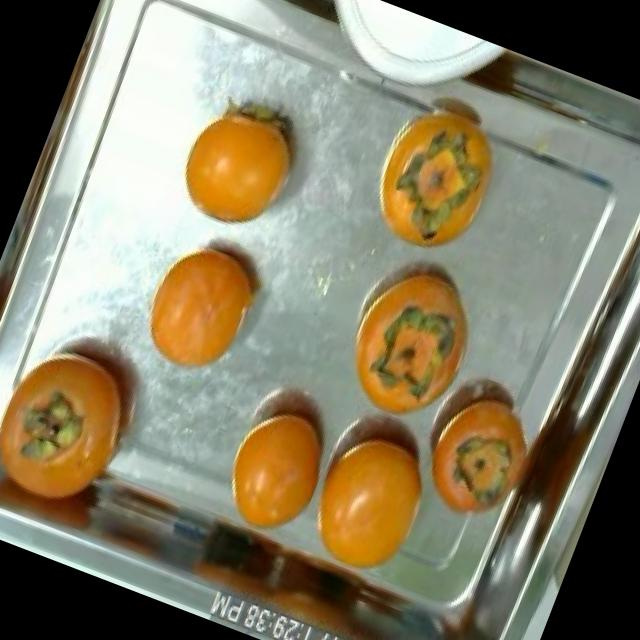Fruit: (0, 300, 176, 542), (288, 382, 466, 600), (326, 244, 500, 445), (350, 85, 520, 274), (121, 212, 288, 400), (200, 368, 354, 554), (160, 75, 322, 251), (406, 362, 550, 544)
